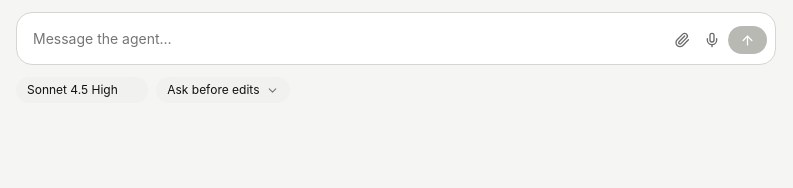
Test: dictation in the composer › lets a keystroke take the field back from dictation
This screenshot has width=793, height=188.
Step 1. Click the button named "Start voice input" → (712, 40), box [698,26,726,54]
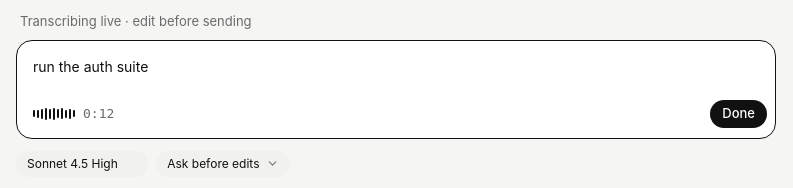
Step 2. Type keys " twice"
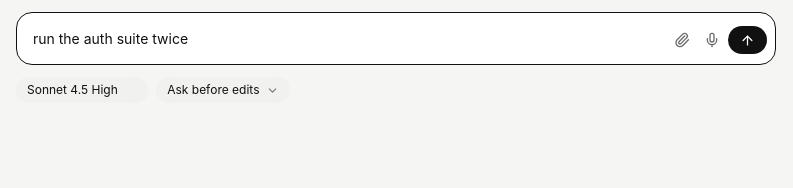
Expected: the text box named "Message the agent…" holds "run the auth suite twice", [33,21,660,56]
